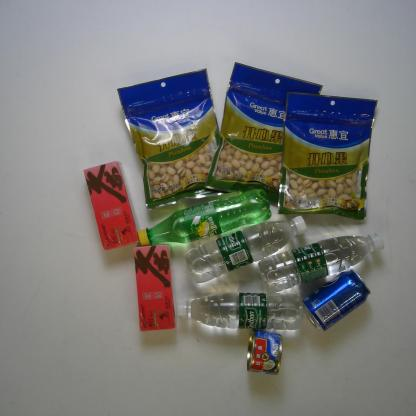Canned Food: (243, 327, 287, 377)
Dried Fruit: (204, 60, 324, 207), (115, 67, 220, 211), (271, 89, 379, 222)
Drink: (181, 213, 309, 288), (132, 186, 275, 252), (255, 228, 390, 294), (172, 293, 302, 336), (302, 268, 378, 332)
Instant Drink: (81, 160, 141, 253), (124, 241, 180, 336)
